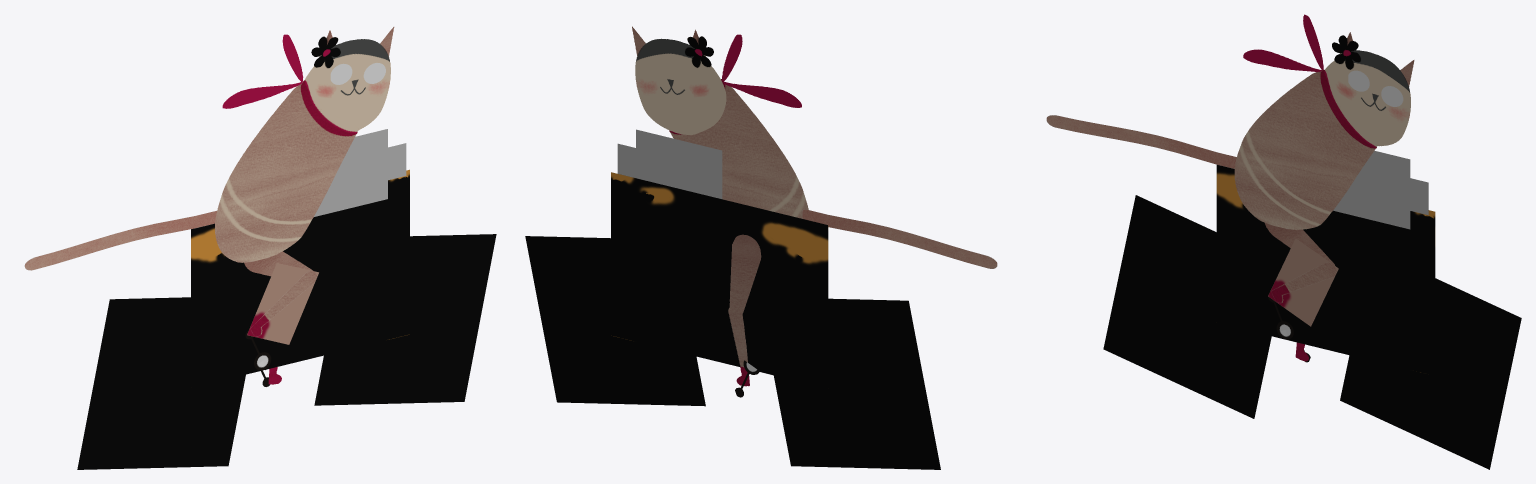
The model's file is Gat_Ciclista_PC.fbx.
3 views of the same model, side by side, from view 1: azimuth 30°, elevation 25°; view 2: azimuth 150°, elevation 25°; view 3: azimuth 330°, elevation 25° (orthographic).
Visible parts, largest first — view 1: Gat_Ciclista; view 2: Gat_Ciclista; view 3: Gat_Ciclista.
Boxes of the visible parts, left/top/right/bottom form: Gat_Ciclista: left=24, top=27, right=496, bottom=469; Gat_Ciclista: left=525, top=26, right=997, bottom=469; Gat_Ciclista: left=1046, top=14, right=1521, bottom=469.
Size of the model in its own units: 7.72 by 6.4 by 0.2951.
